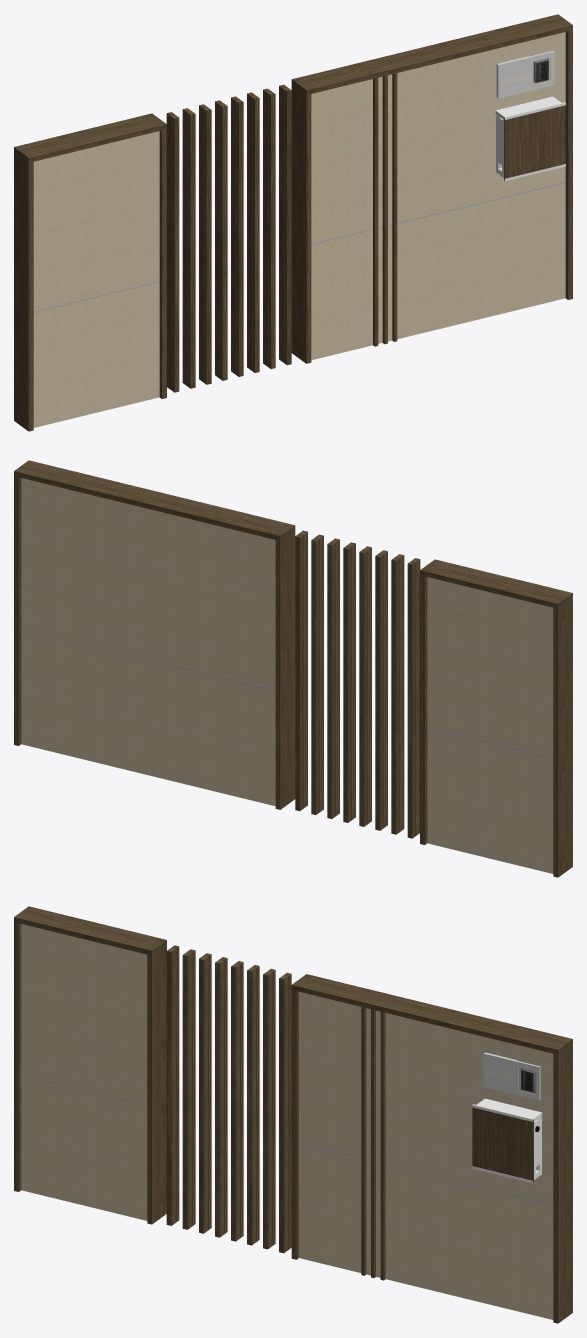
The model's file is ab53_brownebony-sunahada.fbx.
3 views of the same model, one above another, from view 1: azimuth 30°, elevation 25°; view 2: azimuth 150°, elevation 25°; view 3: azimuth 330°, elevation 25° (orthographic).
Visible parts, largest first — view 1: ab53_brownebony-sunahada; view 2: ab53_brownebony-sunahada; view 3: ab53_brownebony-sunahada.
Part boxes in pixels (x1=…): ab53_brownebony-sunahada: x1=14, y1=14, x2=572, y2=431; ab53_brownebony-sunahada: x1=14, y1=460, x2=572, y2=877; ab53_brownebony-sunahada: x1=14, y1=906, x2=572, y2=1323.
Bounding box in the file's own units: 339 × 163 × 25.6.
14 materials, 6 textured.
